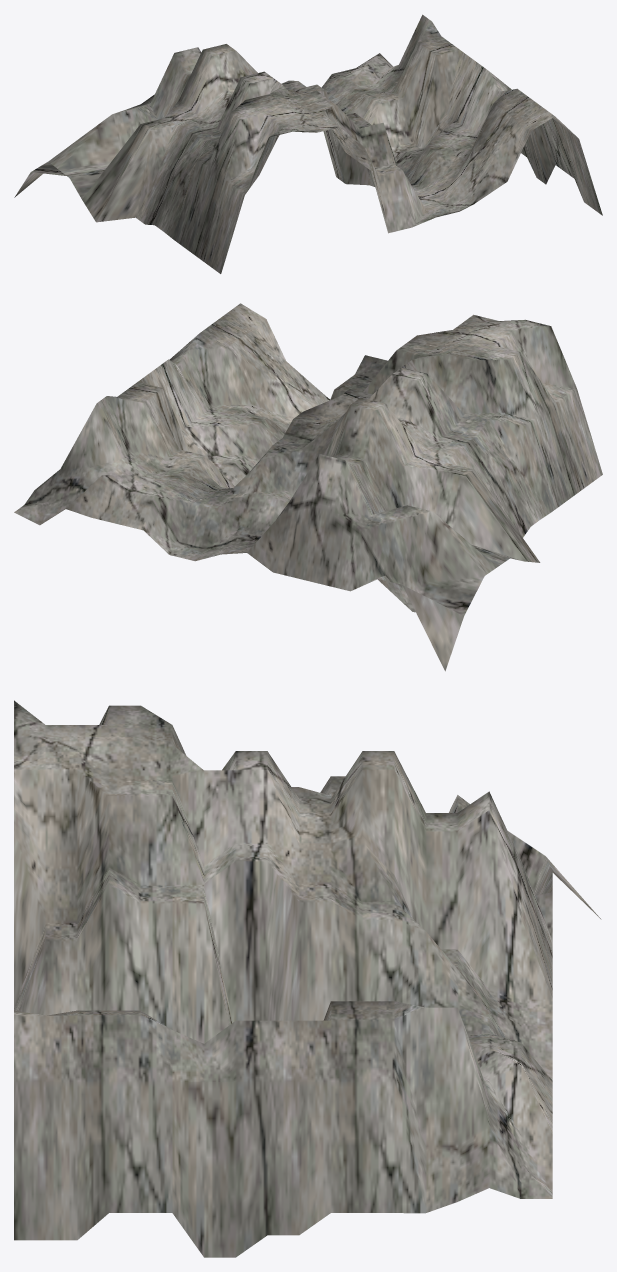
File: DWARF_PALACE_GEAR_ROOM_CELLINGA.fbx
3 views of the same model, one above another, from view 1: azimuth 30°, elevation 25°; view 2: azimuth 150°, elevation 25°; view 3: azimuth 270°, elevation 25° (orthographic). The views are drawn at different scales.
Parts seen in each view (by area): view 1: DWARF_PALACE_GEAR_ROOM_CELLINGA; view 2: DWARF_PALACE_GEAR_ROOM_CELLINGA; view 3: DWARF_PALACE_GEAR_ROOM_CELLINGA.
Part boxes in pixels (<box>): DWARF_PALACE_GEAR_ROOM_CELLINGA: <box>14,14,602,273</box>; DWARF_PALACE_GEAR_ROOM_CELLINGA: <box>14,303,602,671</box>; DWARF_PALACE_GEAR_ROOM_CELLINGA: <box>14,700,601,1257</box>.
Bounding box in the file's own units: 329691 × 129274 × 242127.
Materials: 1 (1 with a texture image).
